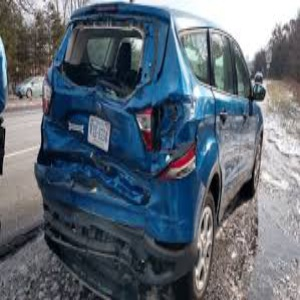bumper: (100, 231, 192, 300)
